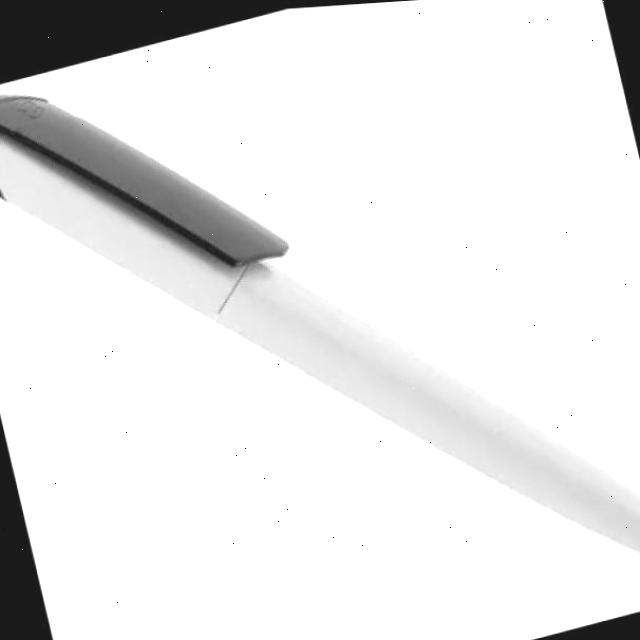pencil: (0, 80, 640, 570)
